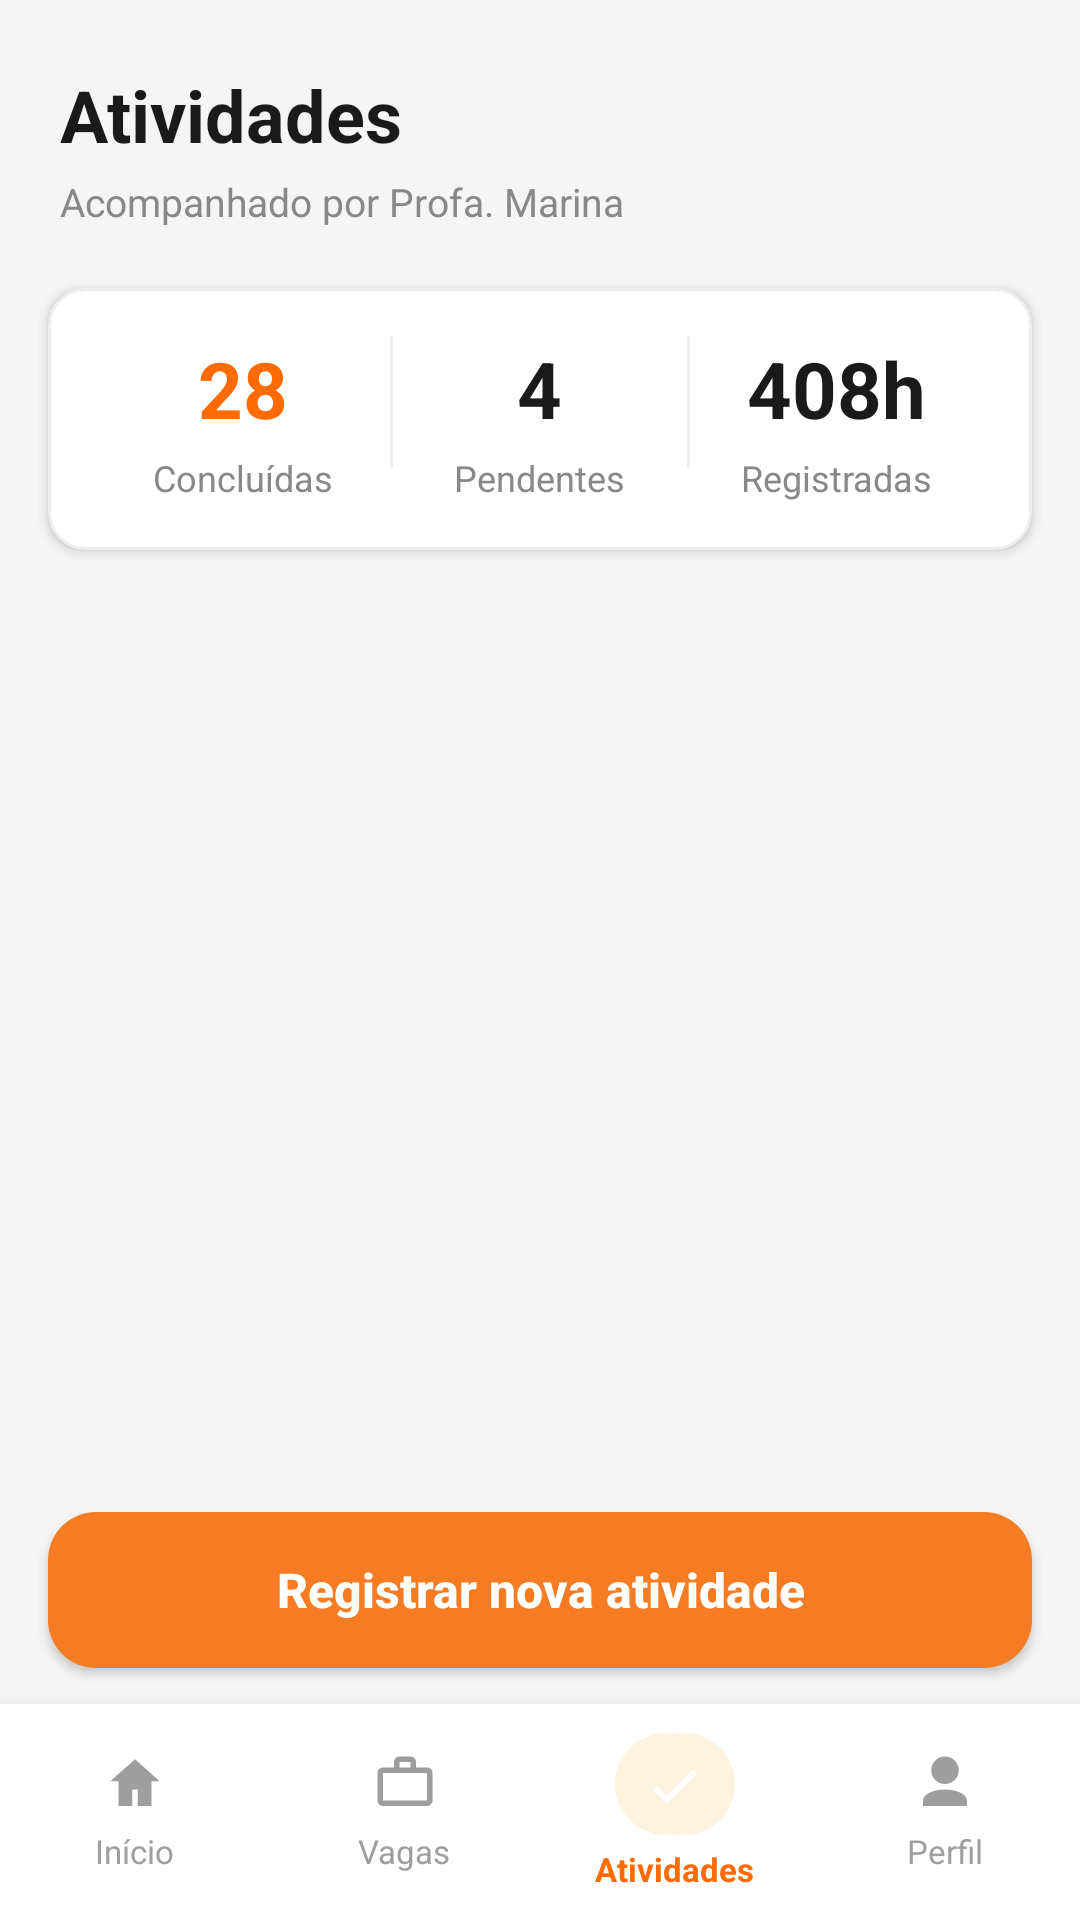

Point at icon controls on the screen. Image size 1080×1920, points as (x,y).
briefcase: (405,1781)
check: (675,1786)
person: (945,1781)
